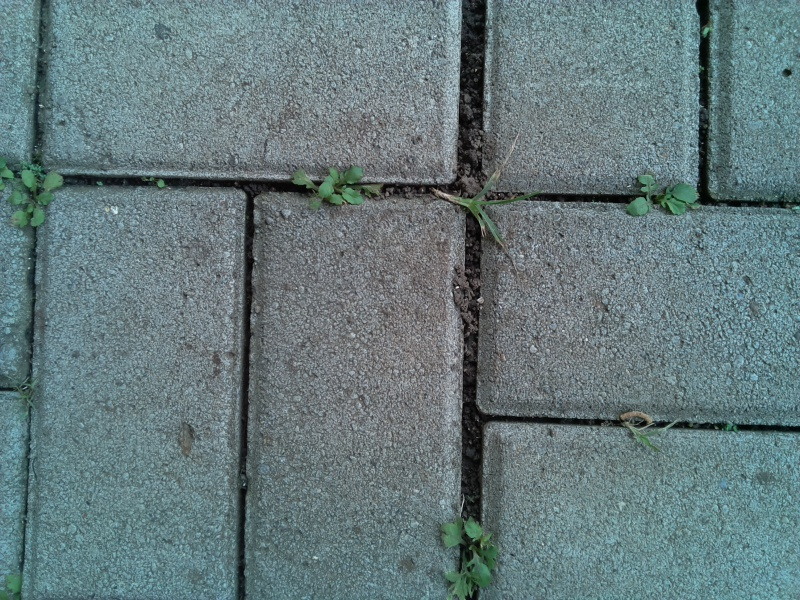Weed: (425, 170, 526, 254), (431, 509, 505, 597), (277, 162, 367, 213), (627, 173, 710, 224), (605, 403, 683, 455), (12, 165, 65, 232), (5, 366, 44, 418), (694, 16, 717, 54), (718, 415, 743, 441)
